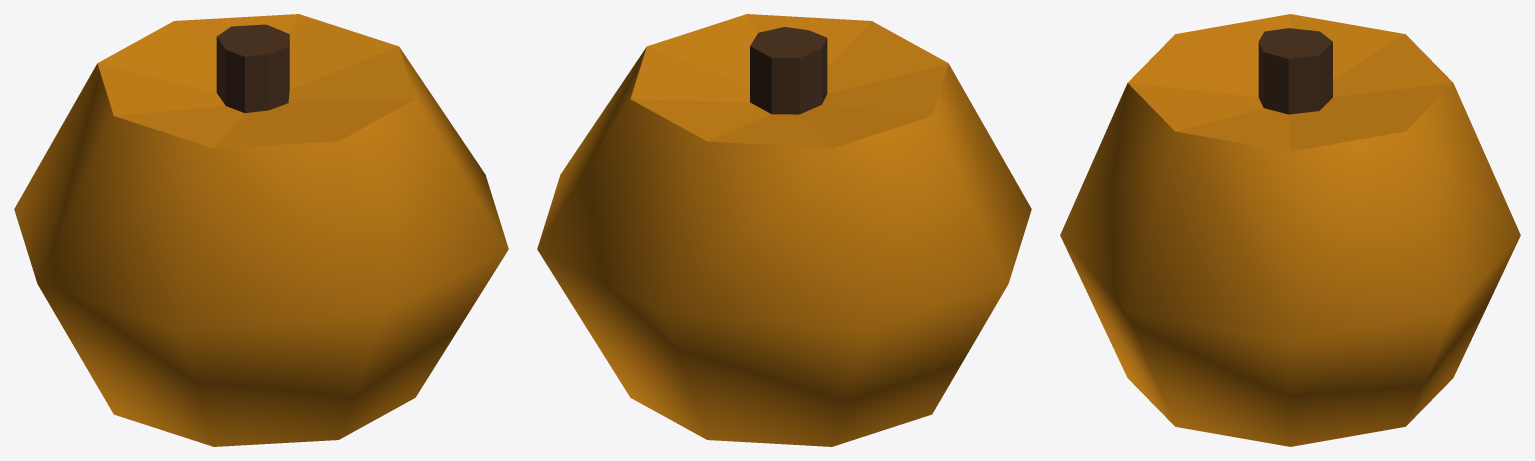
Rendered from PumpkinPlant.FBX.
3 views of the same model, side by side, from view 1: azimuth 30°, elevation 25°; view 2: azimuth 150°, elevation 25°; view 3: azimuth 270°, elevation 25° (orthographic).
Visible parts, largest first — view 1: PumpkinPlant; view 2: PumpkinPlant; view 3: PumpkinPlant.
Boxes of the visible parts, <box> form: PumpkinPlant: <box>14,14,508,446</box>; PumpkinPlant: <box>537,14,1031,446</box>; PumpkinPlant: <box>1060,14,1520,446</box>.
Size of the model in its own units: 45.23 by 32.64 by 40.72.
